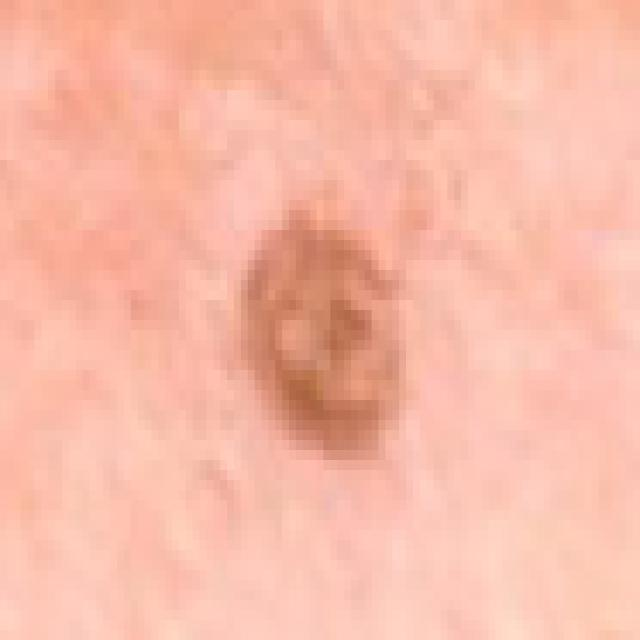blackhead: (257, 252, 391, 434)
